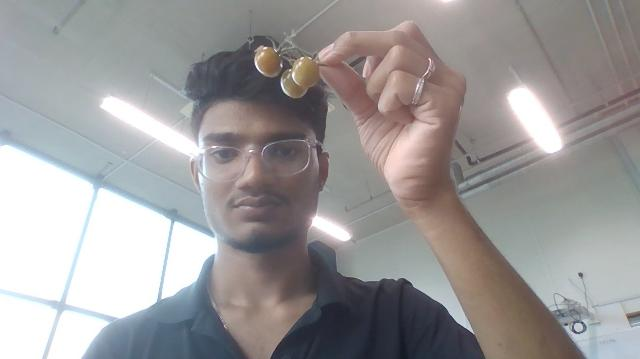Fully Grown: (291, 55, 321, 90), (253, 45, 283, 78), (279, 70, 308, 100), (280, 68, 308, 99)
